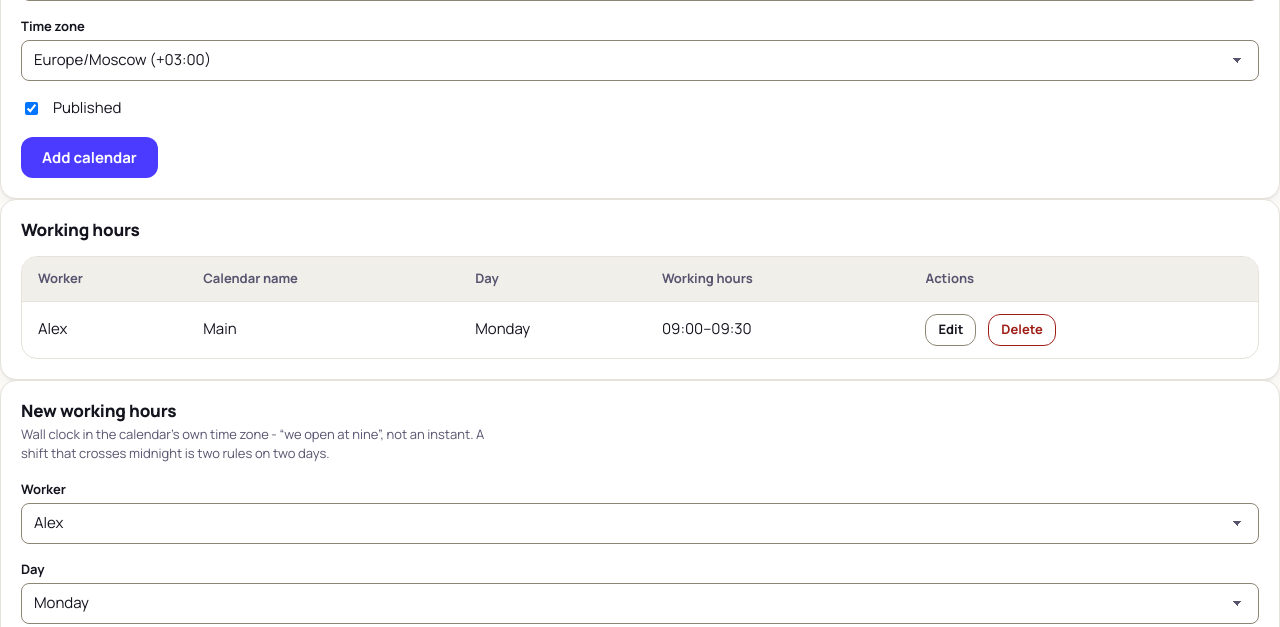
Test case: the tenant setup screen › names the already-cut days, the live bookings on them, and where to re-cut from
(page scrolled)
Click the button "Edit".
click(951, 330)  # box x1=925 y1=314 x2=976 y2=346
(page scrolled)
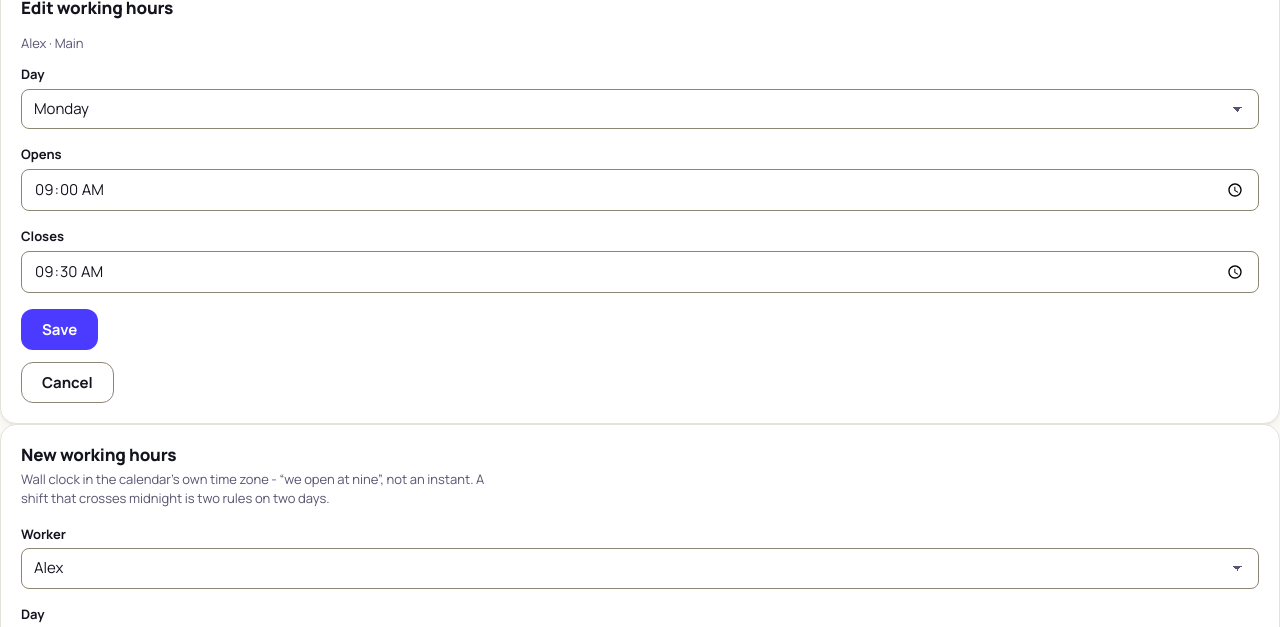
Click the button "Save".
click(60, 330)  # box x1=21 y1=310 x2=98 y2=350
(page scrolled)
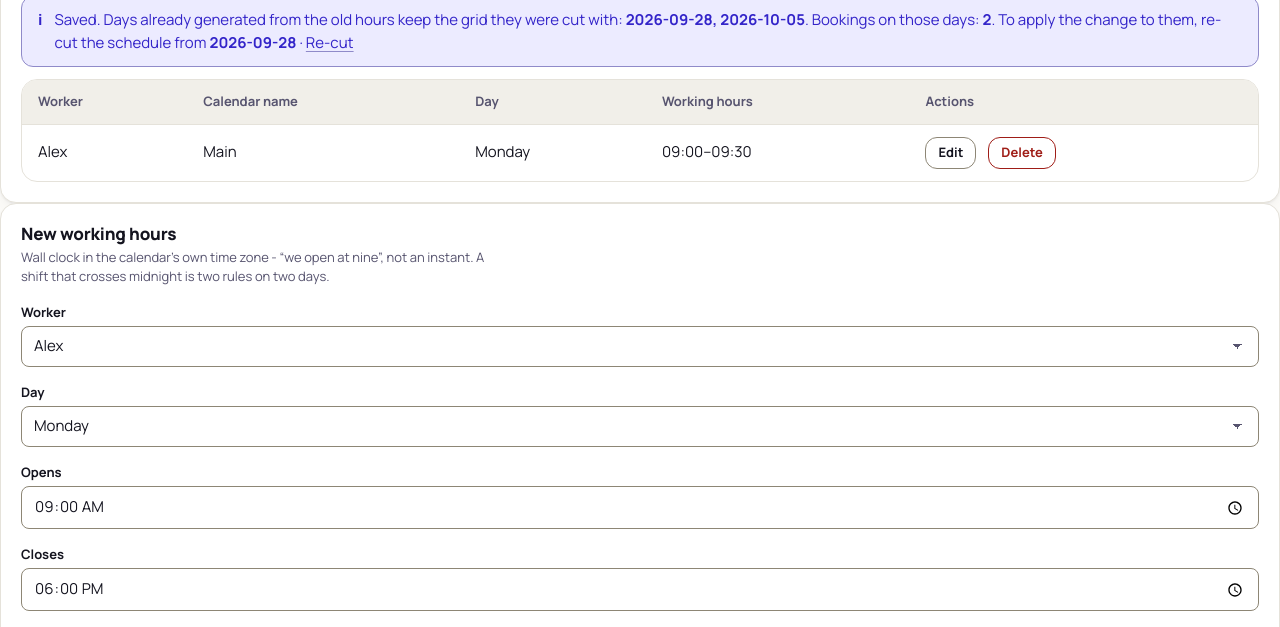
expect the text "2026-09-28, 2026-10-05" is shown: met, box x1=626 y1=9 x2=805 y2=30
expect the text "Bookings on those days:" is shown: met, box x1=809 y1=9 x2=982 y2=30
expect the text "re-cut the schedule from" is shown: met, box x1=54 y1=9 x2=1221 y2=53
